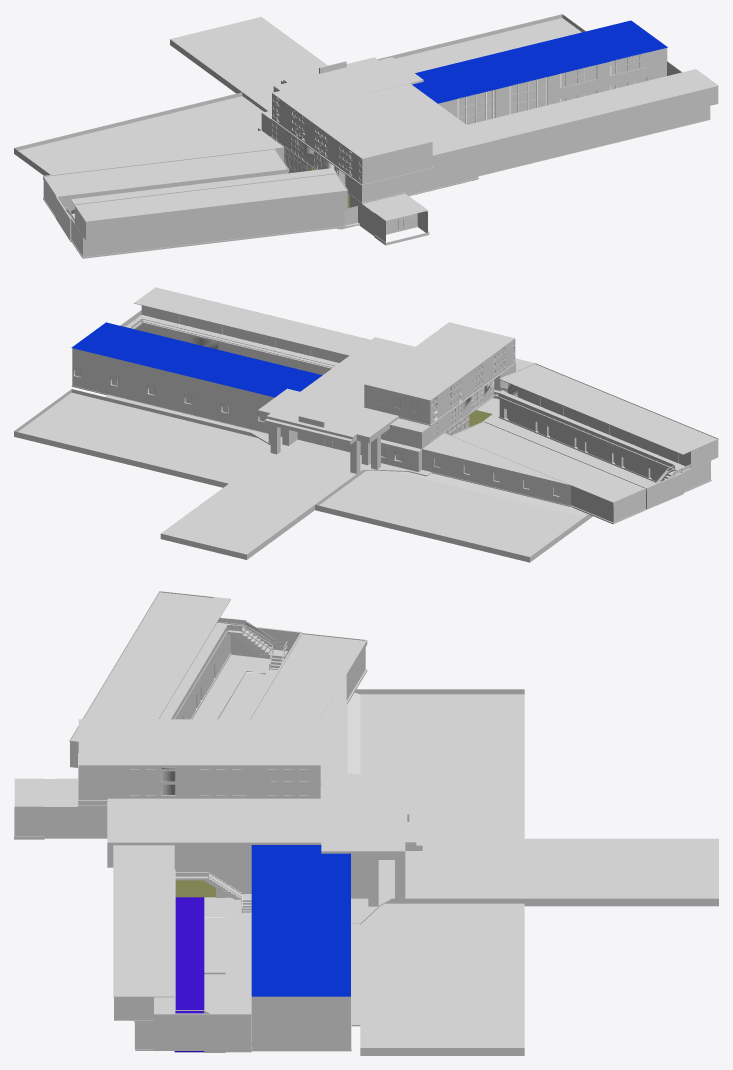
Rendered from depIA.gltf.
3 renders of one model, top to bottom at view 1: azimuth 30°, elevation 25°; view 2: azimuth 150°, elevation 25°; view 3: azimuth 270°, elevation 25°, orthographic. The views are drawn at different scales.
Parts seen in each view (by area): view 1: building_134.001, building_008.001, Plane.025, Plane.012, Cube.104, building_008.003, building_048.008, Plane.021, building_004.003, building_048.005, Cube.107, Plane.013 (+19 smaller); view 2: building_134.001, Cube.104, Plane.013, Plane.025, building_008.003, building_048.008, building_131.001, Plane.021, building_004.003, building_008.005, building_048.005, building_008.001 (+22 smaller); view 3: building_134.001, Cube.104, Plane.025, building_048.008, Cube.107, building_008.003, Plane.021, Cube.105, building_004.003, Plane.026, Cube.008, Cube.007 (+27 smaller).
Part boxes in pixels (<box>): building_134.001: <box>18,18,616,174</box>; building_008.001: <box>64,191,347,258</box>; Plane.025: <box>412,20,667,103</box>; Plane.012: <box>478,73,718,176</box>; Cube.104: <box>170,17,327,111</box>; building_008.003: <box>70,168,348,222</box>; building_048.008: <box>272,75,432,158</box>; Plane.021: <box>467,69,718,141</box>; building_004.003: <box>44,149,287,196</box>; building_048.005: <box>271,93,433,185</box>; Cube.107: <box>367,83,489,157</box>; Plane.013: <box>438,48,667,123</box>; building_134.001: <box>14,392,583,562</box>; Cube.104: <box>160,456,352,559</box>; Plane.013: <box>71,327,302,437</box>; Plane.025: <box>71,322,322,397</box>; building_008.003: <box>499,363,718,454</box>; building_048.008: <box>364,322,514,400</box>; building_131.001: <box>422,433,570,506</box>; Plane.021: <box>134,287,370,355</box>; building_004.003: <box>453,422,644,501</box>; building_008.005: <box>499,383,690,478</box>; building_048.005: <box>364,338,516,425</box>; building_008.001: <box>498,387,718,492</box>; building_134.001: <box>354,689,524,1055</box>; Cube.104: <box>418,838,718,906</box>; Plane.025: <box>251,845,350,996</box>; building_048.008: <box>78,719,320,765</box>; Cube.107: <box>107,798,321,845</box>; building_008.003: <box>69,591,230,741</box>; Plane.021: <box>114,845,174,996</box>; Cube.105: <box>321,782,416,845</box>; building_004.003: <box>251,634,364,719</box>; Plane.026: <box>251,996,350,1050</box>; Cube.008: <box>153,1014,251,1050</box>; Cube.007: <box>174,897,204,1052</box>.
Size of the model in its own units: 131 by 14.69 by 96.83.
